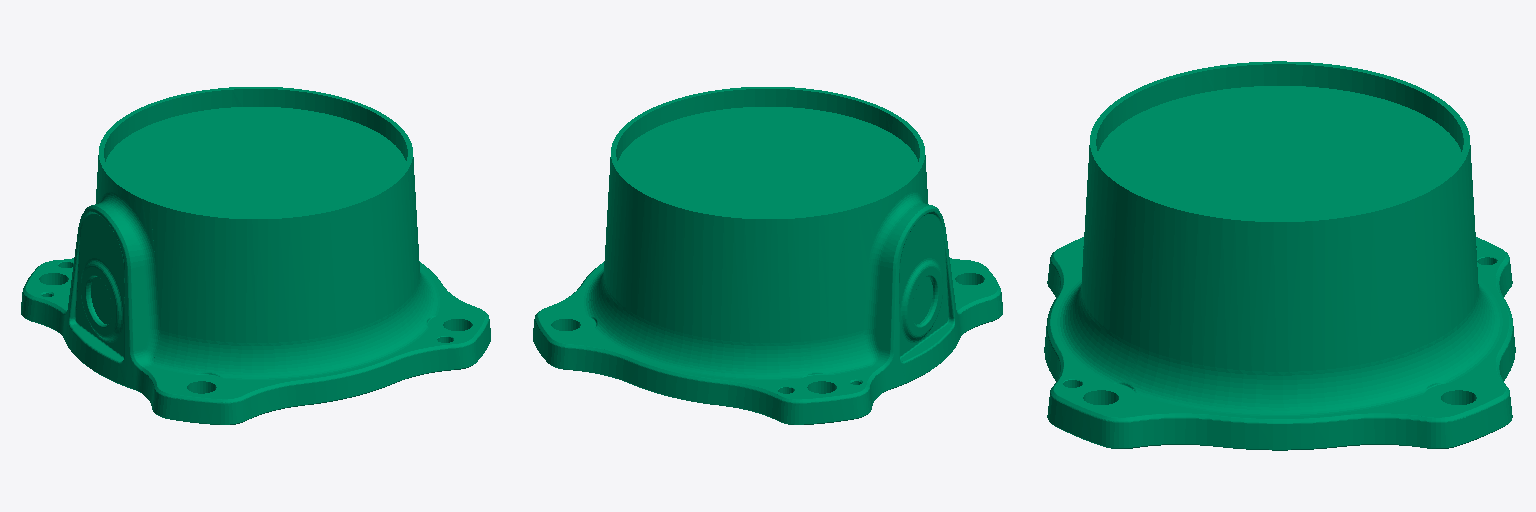
robot.urdf — robot:
<?xml version="1.0" encoding="UTF-8"?>
<robot name="">
  <joint name="base_fixed_joint" type="fixed">
    <origin xyz="0. 0. 0." rpy="0. 0. 0."/>
    <parent link="body"/>
    <child link="link_0"/>
  </joint>
  <joint name="elbow_joint" type="revolute">
    <origin xyz="0. 0. -0.429" rpy="0. -0. -0."/>
    <parent link="link_2"/>
    <child link="link_3"/>
    <axis xyz="1. 0. 0."/>
    <limit lower="-2.7576202" upper="2.7576202" effort="30000." velocity="30.0000005"/>
  </joint>
  <joint name="flange_fixed_joint" type="fixed">
    <origin xyz="-0.0000001 -0.0000617 0.0001164" rpy="0.0002284 1.5699339 -0.0002291"/>
    <parent link="link_6"/>
    <child link="flange_link"/>
  </joint>
  <joint name="shoulder_1_joint" type="revolute">
    <origin xyz="0. 0. 0.1484" rpy="0. -1.5707964 0. "/>
    <parent link="link_0"/>
    <child link="link_1"/>
    <axis xyz="1. 0. 0."/>
    <limit lower="-6.2831853" upper="6.2831853" effort="30000." velocity="30.0000005"/>
  </joint>
  <joint name="shoulder_2_joint" type="revolute">
    <origin xyz="0. 0. 0." rpy="-1.570796 -0.0000003 1.5707963"/>
    <parent link="link_1"/>
    <child link="link_2"/>
    <axis xyz="1. 0. 0."/>
    <limit lower="-6.2831853" upper="6.2831853" effort="30000." velocity="30.0000005"/>
  </joint>
  <joint name="wrist_1_joint" type="revolute">
    <origin xyz="-0.1478 -0. -0.386 " rpy="1.570796 0. 0. "/>
    <parent link="link_3"/>
    <child link="link_4"/>
    <axis xyz="1. 0. 0."/>
    <limit lower="-6.2831853" upper="6.2831853" effort="30000." velocity="30.0000005"/>
  </joint>
  <joint name="wrist_2_joint" type="revolute">
    <origin xyz="0. -0.1315 0. " rpy="-0. -0. -1.570796"/>
    <parent link="link_4"/>
    <child link="link_5"/>
    <axis xyz="1. 0. 0."/>
    <limit lower="-6.2831853" upper="6.2831853" effort="30000." velocity="30.0000005"/>
  </joint>
  <joint name="wrist_3_joint" type="revolute">
    <origin xyz="0.0000616 -0.1349499 -0.0001164" rpy="0.0000002 0.0008624 -1.5703388"/>
    <parent link="link_5"/>
    <child link="link_6"/>
    <axis xyz="1. 0. 0."/>
    <limit lower="-6.2831853" upper="6.2831853" effort="30000." velocity="30.0000005"/>
  </joint>
  <link name="body"/>
  <link name="flange_link">
    <inertial>
      <origin xyz="0. 0. 0." rpy="0. 0. 0."/>
      <mass value="0.000001"/>
      <inertia ixx="0.00001" ixy="0." ixz="0." iyy="0.00001" iyz="0." izz="0.00001"/>
    </inertial>
  </link>
  <link name="link_0">
    <inertial>
      <origin xyz="0. 0. 0." rpy="0. 0. 0."/>
      <mass value="1."/>
      <inertia ixx="0.0027098" ixy="-0.0000021" ixz="-0.0000257" iyy="0.0027497" iyz="-0.0000081" izz="0.002585"/>
    </inertial>
    <visual>
      <origin xyz="0. 0. 0." rpy="0. 0. 0."/>
      <geometry>
        <mesh filename="meshes/link_0_visuals.obj" scale="1. 1. 1."/>
      </geometry>
    </visual>
    <collision>
      <origin xyz="0. 0. 0." rpy="0. 0. 0."/>
      <geometry>
        <mesh filename="meshes/link_0_collisions.obj" scale="1. 1. 1."/>
      </geometry>
    </collision>
  </link>
  <link name="link_1">
    <inertial>
      <origin xyz="0. 0. 0." rpy="0. 0. 0."/>
      <mass value="4.3200002"/>
      <inertia ixx="0.0145723" ixy="0.0000532" ixz="0.0000232" iyy="0.0133901" iyz="-0.0000334" izz="0.0093386"/>
    </inertial>
    <visual>
      <origin xyz="0. 0. 0." rpy="0. 1.5707964 0. "/>
      <geometry>
        <mesh filename="meshes/link_1_visuals.obj" scale="1. 1. 1."/>
      </geometry>
    </visual>
    <collision>
      <origin xyz="0. 0. 0." rpy="0. 1.5707964 0. "/>
      <geometry>
        <mesh filename="meshes/link_1_collisions.obj" scale="1. 1. 1."/>
      </geometry>
    </collision>
  </link>
  <link name="link_2">
    <inertial>
      <origin xyz="0. 0. 0." rpy="0. 0. 0."/>
      <mass value="9.7959995"/>
      <inertia ixx="0.2549288" ixy="0.0025201" ixz="-0.3156669" iyy="0.9154209" iyz="0.0013046" izz="0.6815184"/>
    </inertial>
    <visual>
      <origin xyz="0. 0. 0." rpy="0. 1.5707963 0. "/>
      <geometry>
        <mesh filename="meshes/link_2_visuals.obj" scale="1. 1. 1."/>
      </geometry>
    </visual>
    <collision>
      <origin xyz="0. 0. 0." rpy="0. 1.5707963 0. "/>
      <geometry>
        <mesh filename="meshes/link_2_collisions.obj" scale="1. 1. 1."/>
      </geometry>
    </collision>
  </link>
  <link name="link_3">
    <inertial>
      <origin xyz="0. 0. 0." rpy="0. 0. 0."/>
      <mass value="2.7780001"/>
      <inertia ixx="0.0070992" ixy="0.0001554" ixz="-0.014717" iyy="0.1658591" iyz="0.0000152" izz="0.1625565"/>
    </inertial>
    <visual>
      <origin xyz="-0. -0. 0." rpy="0. 1.5707964 0. "/>
      <geometry>
        <mesh filename="meshes/link_3_visuals.obj" scale="1. 1. 1."/>
      </geometry>
    </visual>
    <collision>
      <origin xyz="-0. -0. 0." rpy="0. 1.5707964 0. "/>
      <geometry>
        <mesh filename="meshes/link_3_collisions.obj" scale="1. 1. 1."/>
      </geometry>
    </collision>
  </link>
  <link name="link_4">
    <inertial>
      <origin xyz="0. 0. 0." rpy="0. 0. 0."/>
      <mass value="1.77"/>
      <inertia ixx="0.0037578" ixy="-0.0000502" ixz="0.0000041" iyy="0.0023305" iyz="0.0000044" izz="0.0032368"/>
    </inertial>
    <visual>
      <origin xyz="0. 0. 0." rpy="-0.0000001 1.5707963 0. "/>
      <geometry>
        <mesh filename="meshes/link_4_visuals.obj" scale="1. 1. 1."/>
      </geometry>
    </visual>
    <collision>
      <origin xyz="0. 0. 0." rpy="-0.0000001 1.5707963 0. "/>
      <geometry>
        <mesh filename="meshes/link_4_collisions.obj" scale="1. 1. 1."/>
      </geometry>
    </collision>
  </link>
  <link name="link_5">
    <inertial>
      <origin xyz="0. 0. 0." rpy="0. 0. 0."/>
      <mass value="1.77"/>
      <inertia ixx="0.0037578" ixy="0.0000502" ixz="0.0000041" iyy="0.0023305" iyz="-0.0000044" izz="0.0032368"/>
    </inertial>
    <visual>
      <origin xyz="-0.0000001 0. 0. " rpy="1.5705675 1.5699339 1.5710247"/>
      <geometry>
        <mesh filename="meshes/link_5_visuals.obj" scale="1. 1. 1."/>
      </geometry>
    </visual>
    <collision>
      <origin xyz="-0.0000001 0. 0. " rpy="1.5705675 1.5699339 1.5710247"/>
      <geometry>
        <mesh filename="meshes/link_5_collisions.obj" scale="1. 1. 1."/>
      </geometry>
    </collision>
  </link>
  <link name="link_6">
    <inertial>
      <origin xyz="0. 0. 0." rpy="0. 0. 0."/>
      <mass value="0.72"/>
      <inertia ixx="0.0026833" ixy="-0.0002063" ixz="0.0000062" iyy="0.0011015" iyz="0.0000099" izz="0.0022617"/>
    </inertial>
    <visual>
      <origin xyz="-0.0000001 -0.0000617 0.0001164" rpy="0.0002284 1.5699339 -0.0002291"/>
      <geometry>
        <mesh filename="meshes/link_6_visuals.obj" scale="1. 1. 1."/>
      </geometry>
    </visual>
    <collision>
      <origin xyz="-0.0000001 -0.0000617 0.0001164" rpy="0.0002284 1.5699339 -0.0002291"/>
      <geometry>
        <mesh filename="meshes/link_6_collisions.obj" scale="1. 1. 1."/>
      </geometry>
    </collision>
  </link>
</robot>

--- Render facts (derived) ---
The picture shows the robot from 3 angles, left to right: view 1: azimuth 30°, elevation 25°; view 2: azimuth 150°, elevation 25°; view 3: azimuth 270°, elevation 25°; orthographic projection.
Model robot with 9 links and 8 joints (6 revolute, 2 fixed), rooted at body, posed all joints at 0.
Links seen in each view (by area): view 1: link_0; view 2: link_0; view 3: link_0.
Link boxes in pixels (x1,y1,x2,y2): link_0: (21,87,490,424); link_0: (533,87,1002,424); link_0: (1044,61,1515,450).
Size in the robot's own frame: 0.1448 by 0.1448 by 0.0712 metres.
1 mesh visuals loaded from 7 distinct referenced files (1 OBJ); not drawn: 6 (reference not matched to a file when rendering).